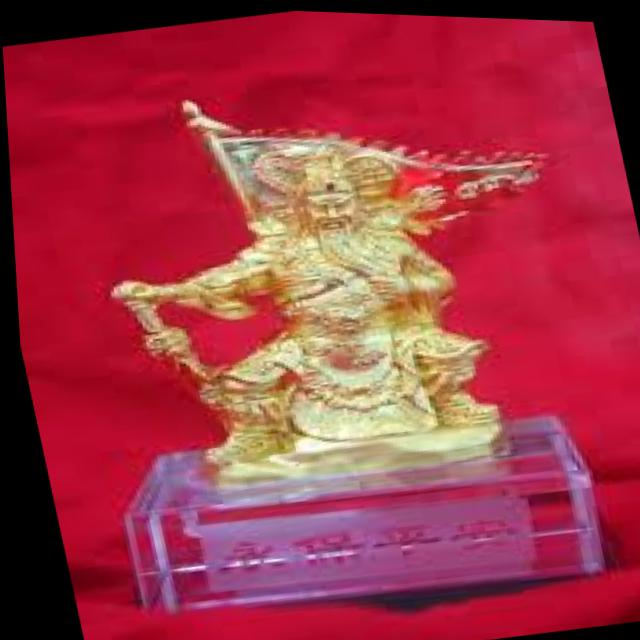Guan Yu: (194, 107, 483, 389)
